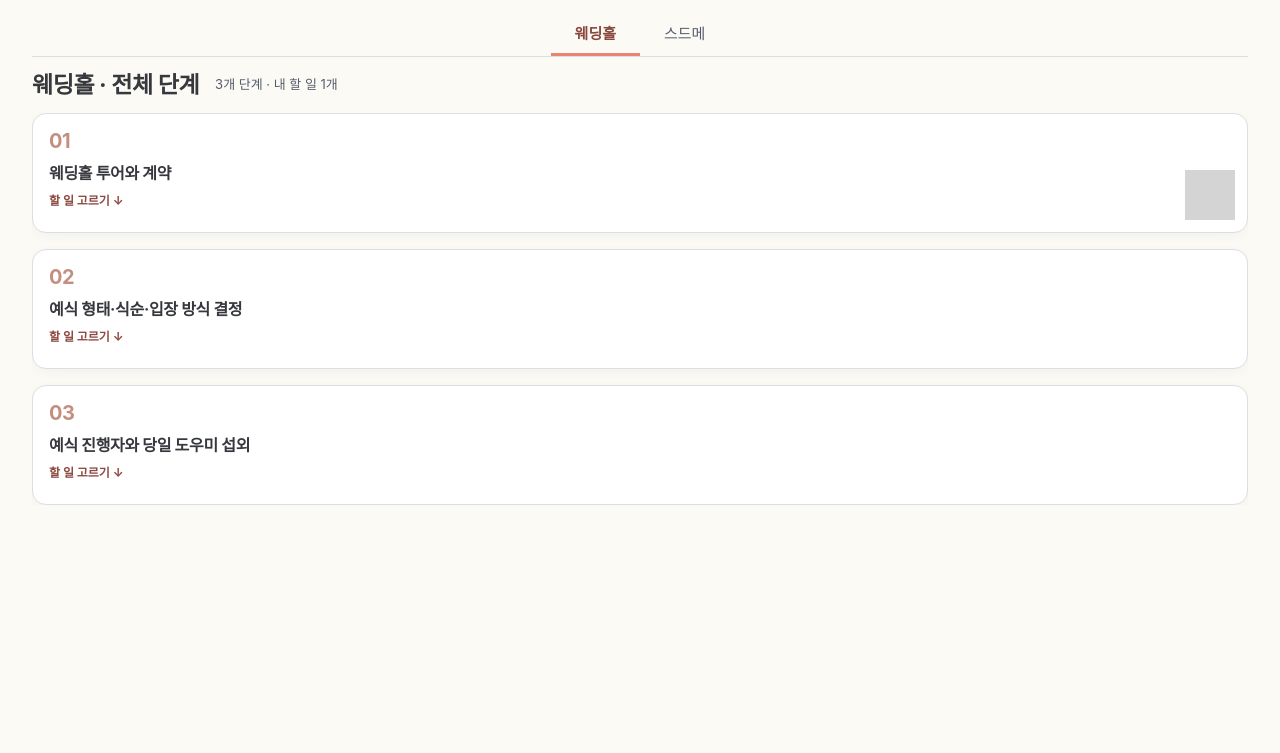
it: AllPreparationStepsFeature 목록 상세 › 카드 아래에 추가할 일과 내가 담은 일을 펼쳐 표시한다
Expected: the heading "웨딩홀 · 전체 단계" is shown, [32,69,199,101]
Step 1. Click the button "01 웨딩홀 투어와 계약 할 일 고르기 ↓" → point(110, 173), box [32,113,1248,233]
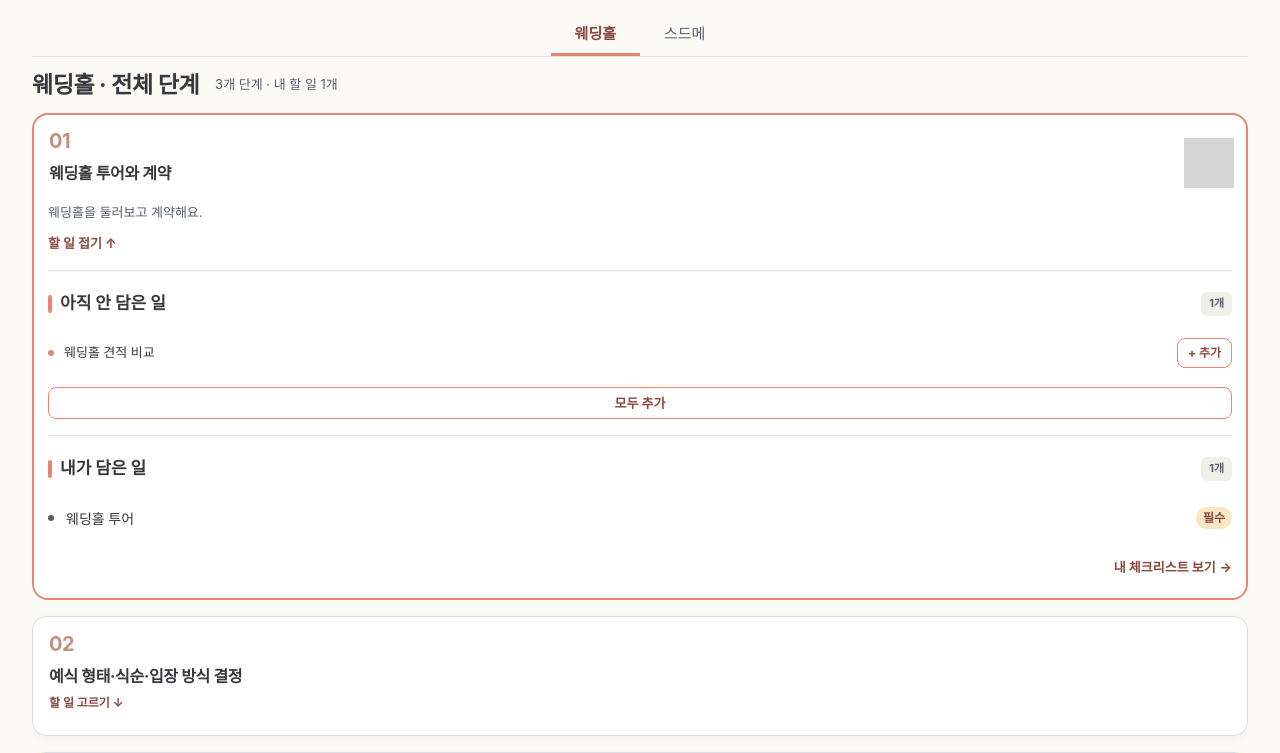
Expected: the heading "아직 안 담은 일" is shown, [48,292,166,316]
Expected: the heading "내가 담은 일" is shown, [48,457,146,481]
Expected: the text "웨딩홀 투어" is shown, [66,510,134,527]
